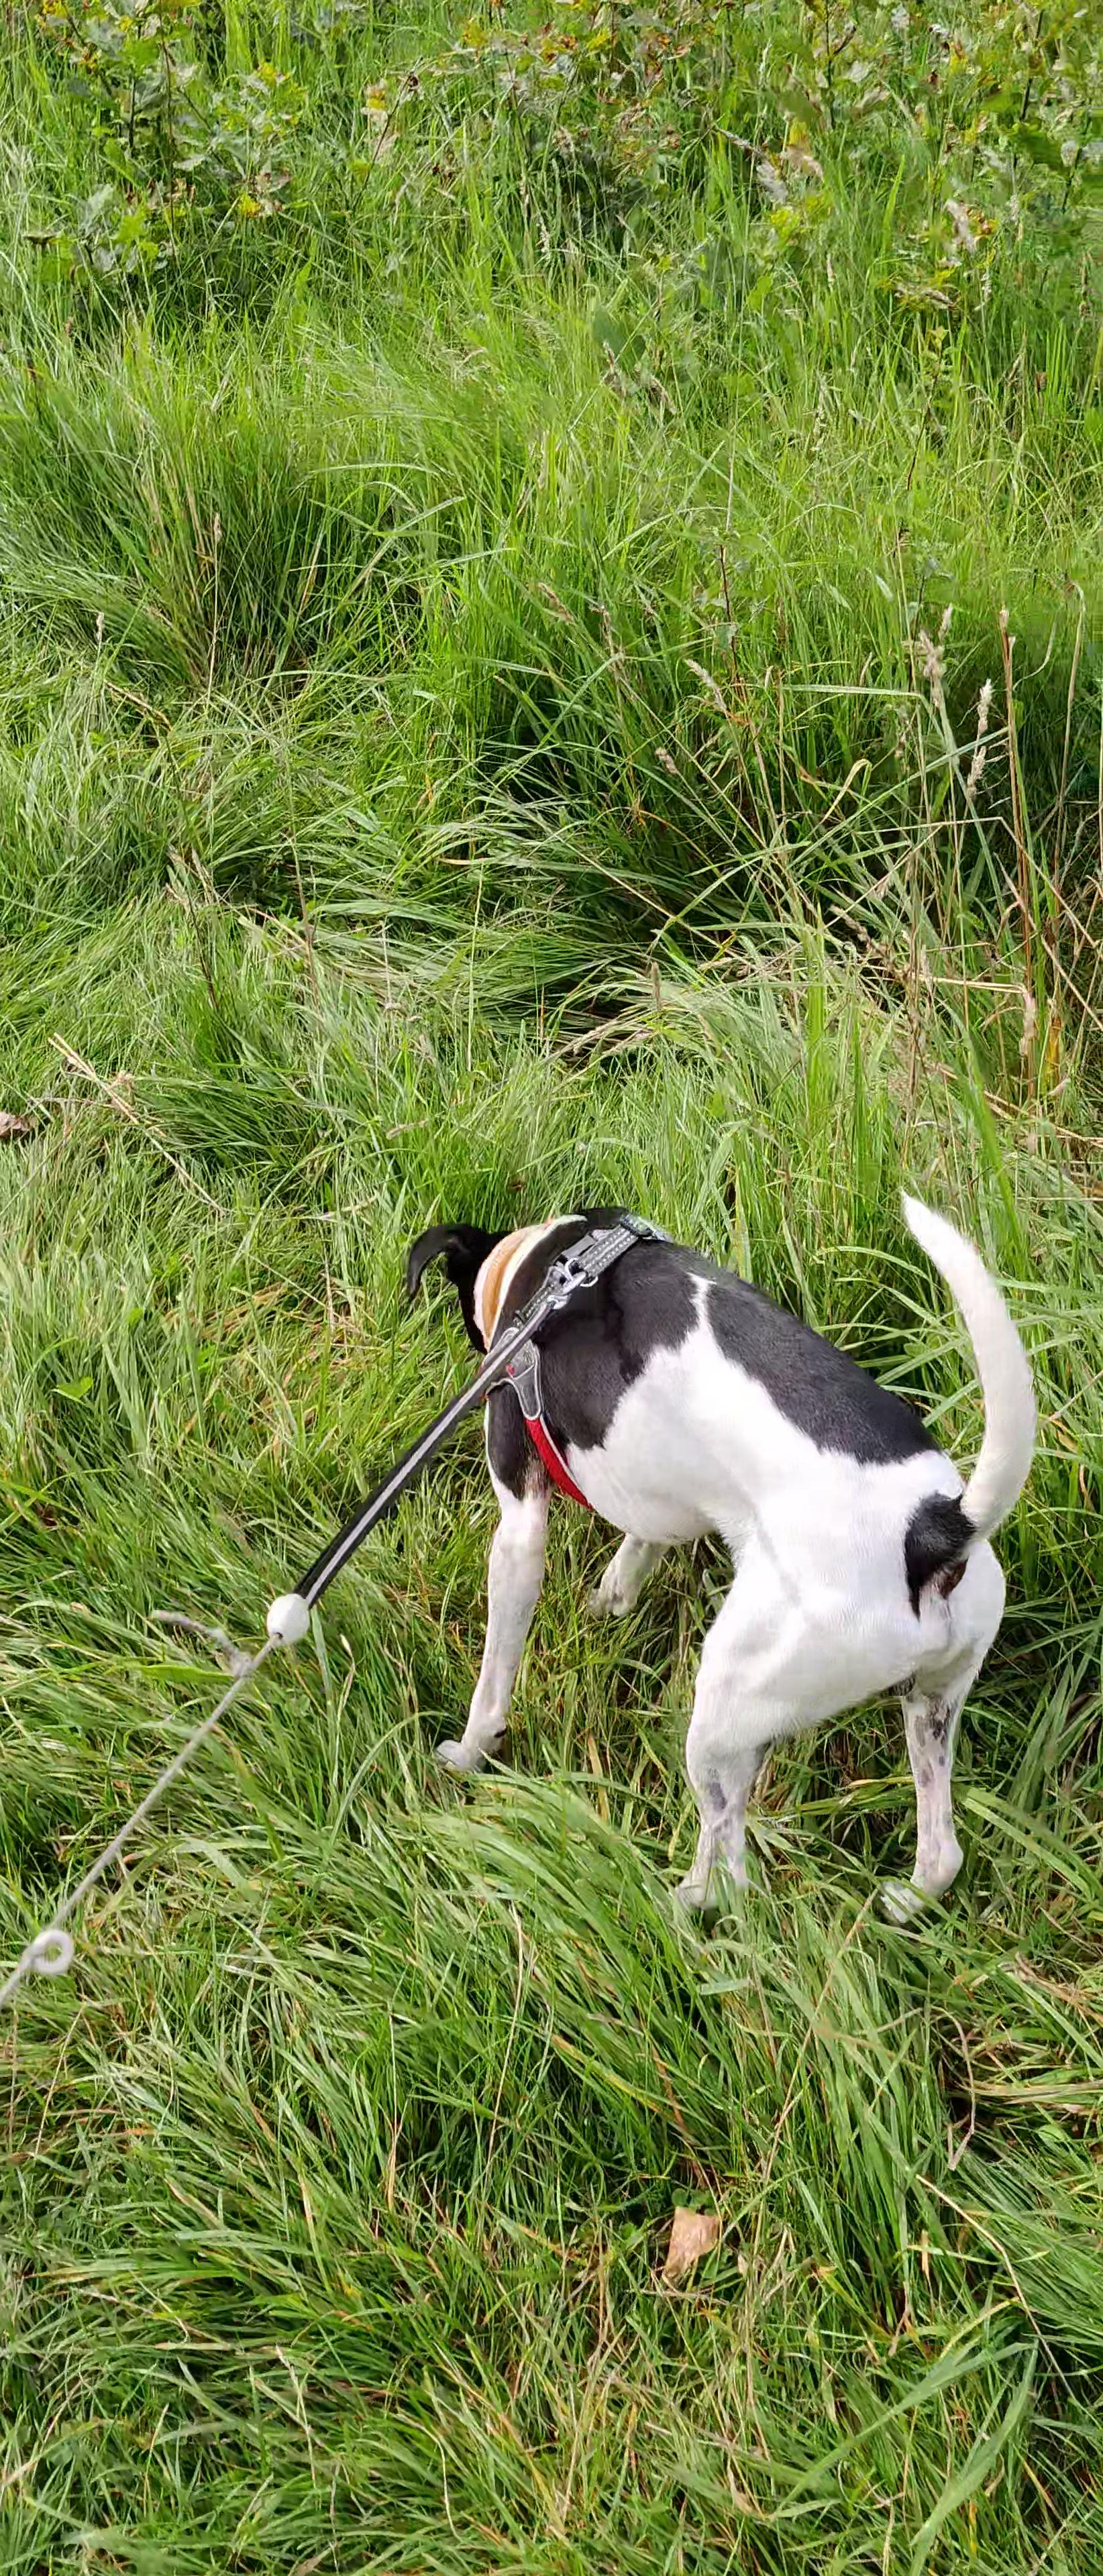Dog: (399, 1117, 1042, 1945)
